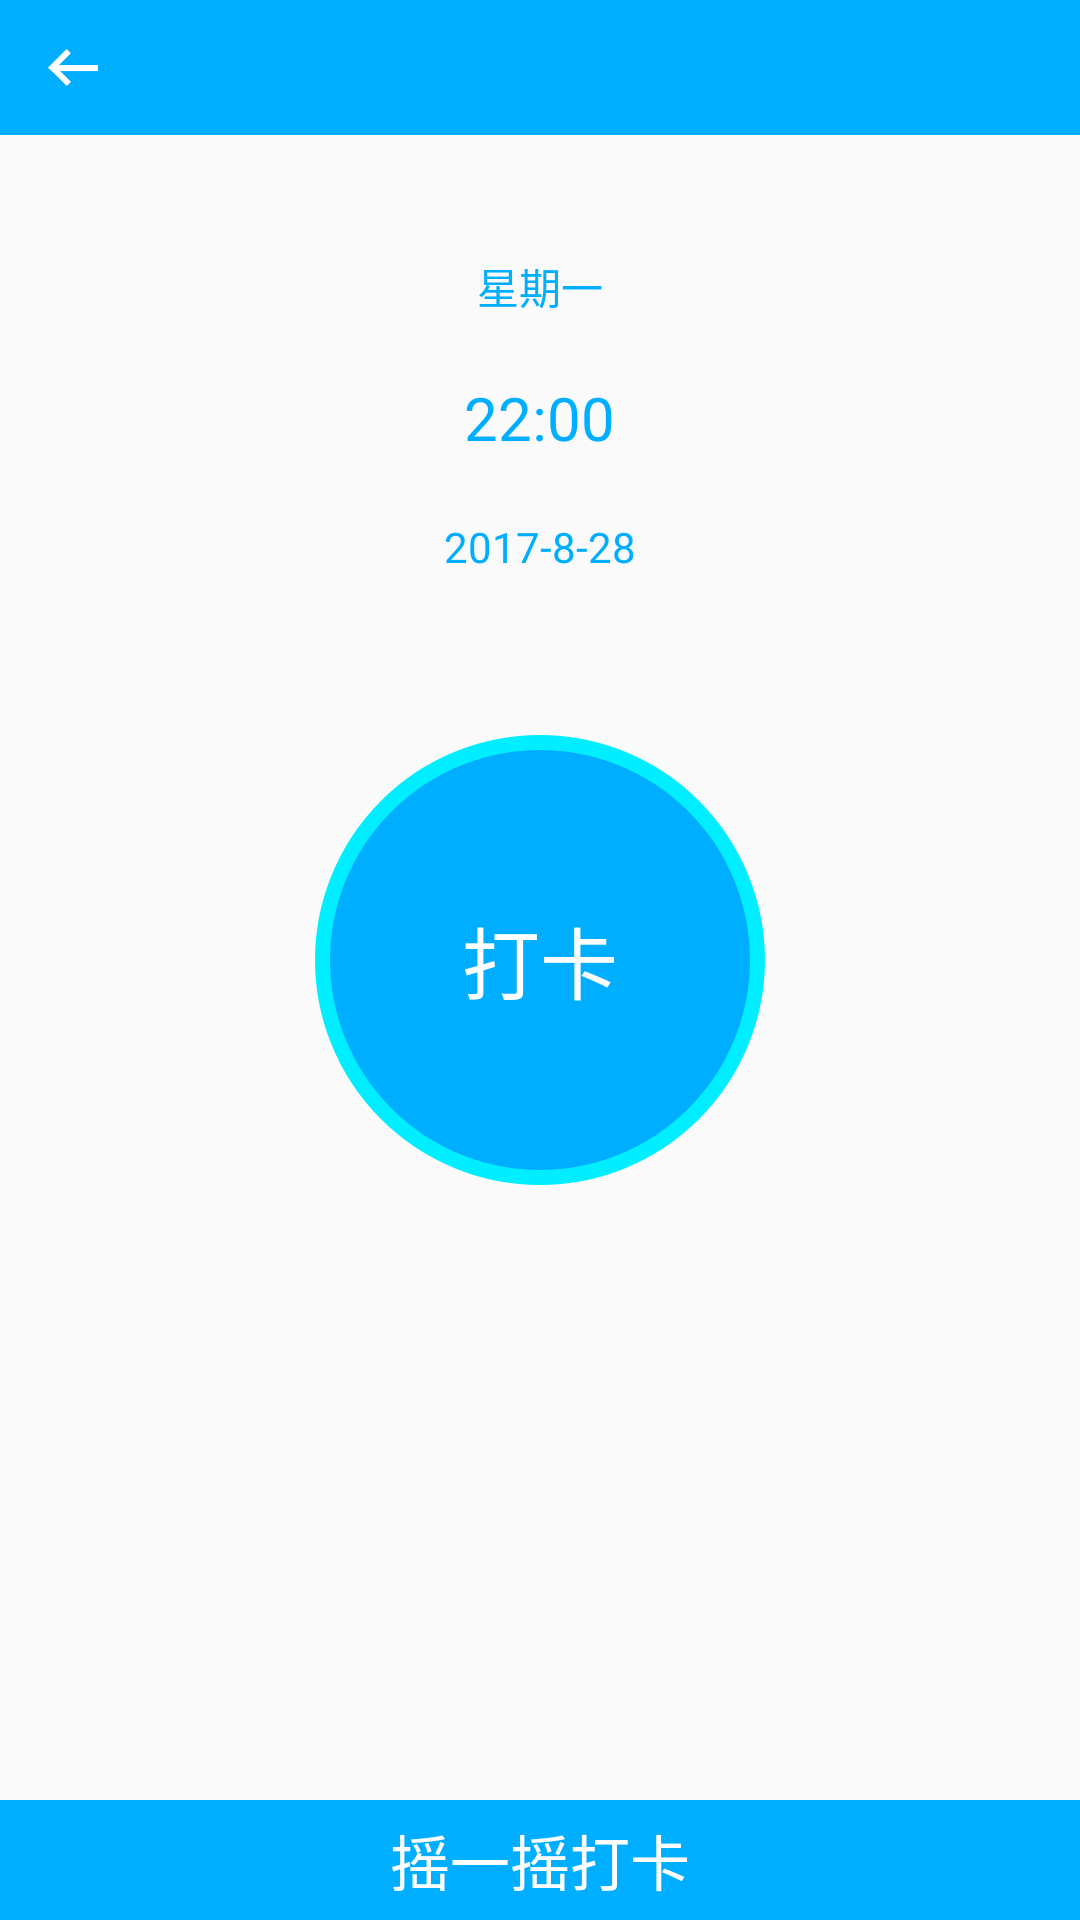

Where icons sit on this 1080 x 1920 app screen, as (x1, y1, x2, y2):
back android: (48, 49, 98, 86)
